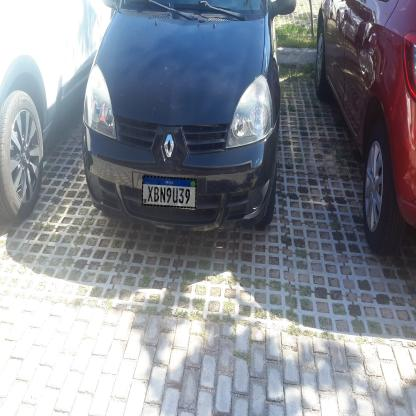PlacaM: (142, 175, 197, 209)
